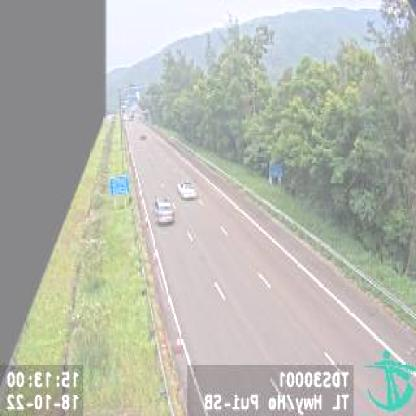Car: (155, 197, 176, 226), (176, 178, 196, 198)
